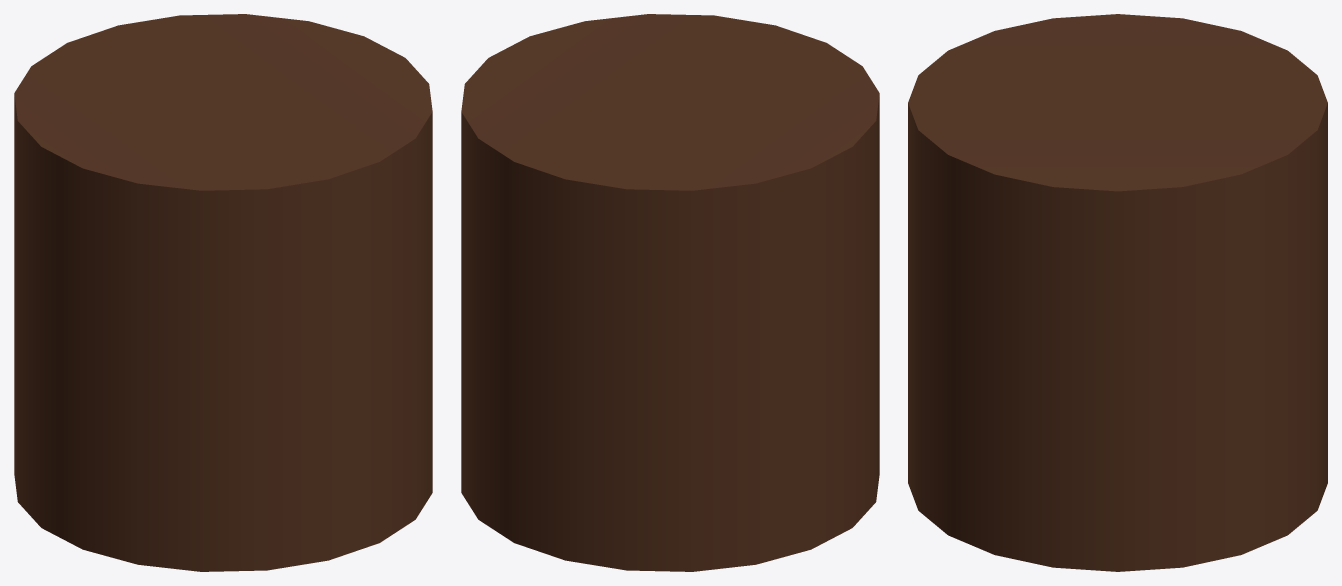
Rendered from BaseCylinder.010.glb.
3 views of the same model, side by side, from view 1: azimuth 30°, elevation 25°; view 2: azimuth 150°, elevation 25°; view 3: azimuth 270°, elevation 25° (orthographic).
Visible parts, largest first — view 1: BaseCylinder.010; view 2: BaseCylinder.010; view 3: BaseCylinder.010.
Boxes of the visible parts, x1,y1,x2,y2 form: BaseCylinder.010: (14, 14, 432, 571); BaseCylinder.010: (461, 14, 879, 571); BaseCylinder.010: (908, 14, 1327, 571).
Size of what is drawn, in the model's own units: 0.7489 by 0.7489 by 0.7489.
Materials: 1 (1 with a texture image).
